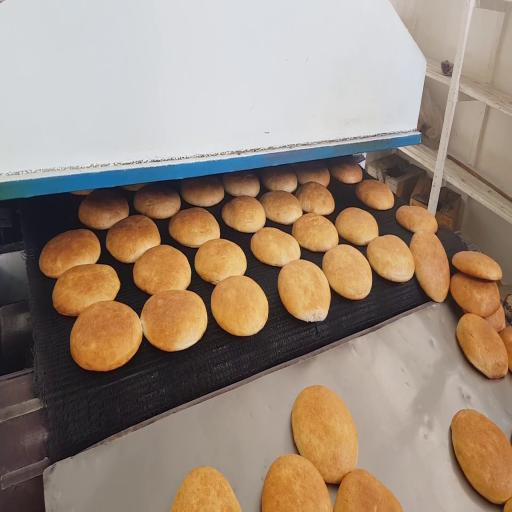bread: (292, 385, 358, 483), (452, 410, 511, 503), (70, 302, 142, 371), (141, 290, 207, 351), (262, 455, 332, 511), (52, 265, 120, 316), (211, 276, 268, 336), (456, 313, 508, 378), (278, 260, 330, 321), (171, 467, 241, 511), (39, 229, 100, 278), (334, 469, 402, 511), (133, 245, 191, 294), (410, 231, 450, 302), (323, 245, 372, 300), (106, 215, 160, 263), (195, 239, 246, 284), (367, 235, 414, 282), (450, 273, 500, 317), (79, 189, 129, 229), (169, 208, 220, 247), (251, 228, 300, 266), (292, 213, 338, 252), (134, 183, 180, 219), (336, 208, 378, 245), (222, 196, 265, 232), (452, 251, 502, 280), (260, 191, 302, 224), (181, 176, 224, 207), (296, 182, 334, 215), (396, 205, 437, 233), (356, 180, 394, 210), (222, 172, 259, 197), (262, 166, 297, 192), (294, 162, 330, 187), (328, 157, 362, 183), (499, 327, 511, 371), (486, 306, 505, 331), (122, 183, 146, 191), (71, 190, 93, 196), (504, 498, 511, 511)
